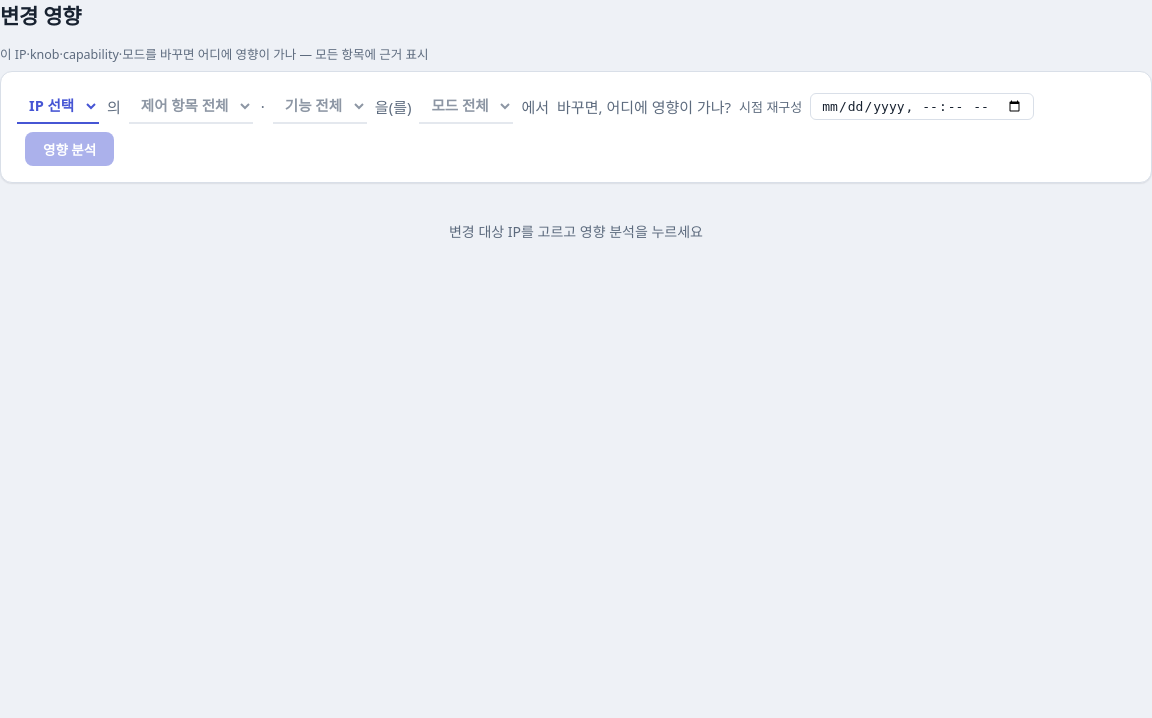
Test: ChangeImpactPage › 그래프 노드 클릭 시 근거 패널에 상세가 표시된다
This screenshot has width=1152, height=718.
Select "ISP" in the dropdown named "무엇을 바꾸나요?" at (58, 106), box [17,88,99,124]
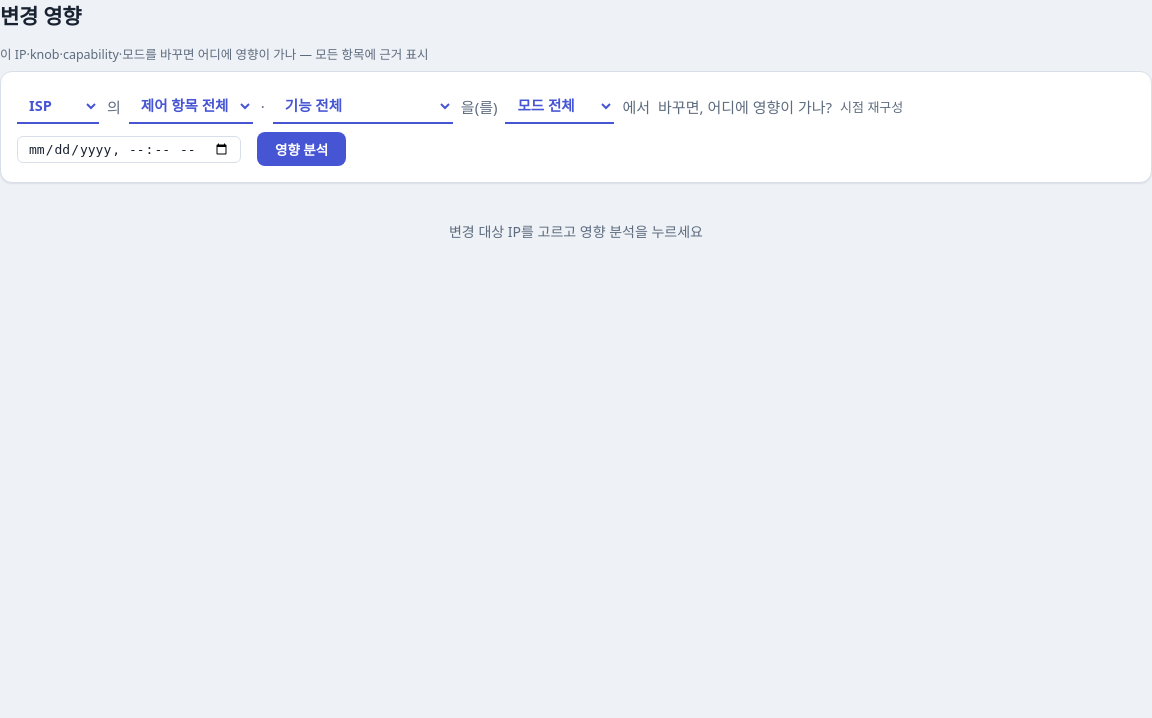
Click the button "영향 분석" at (302, 149), box [257,132,346,166]
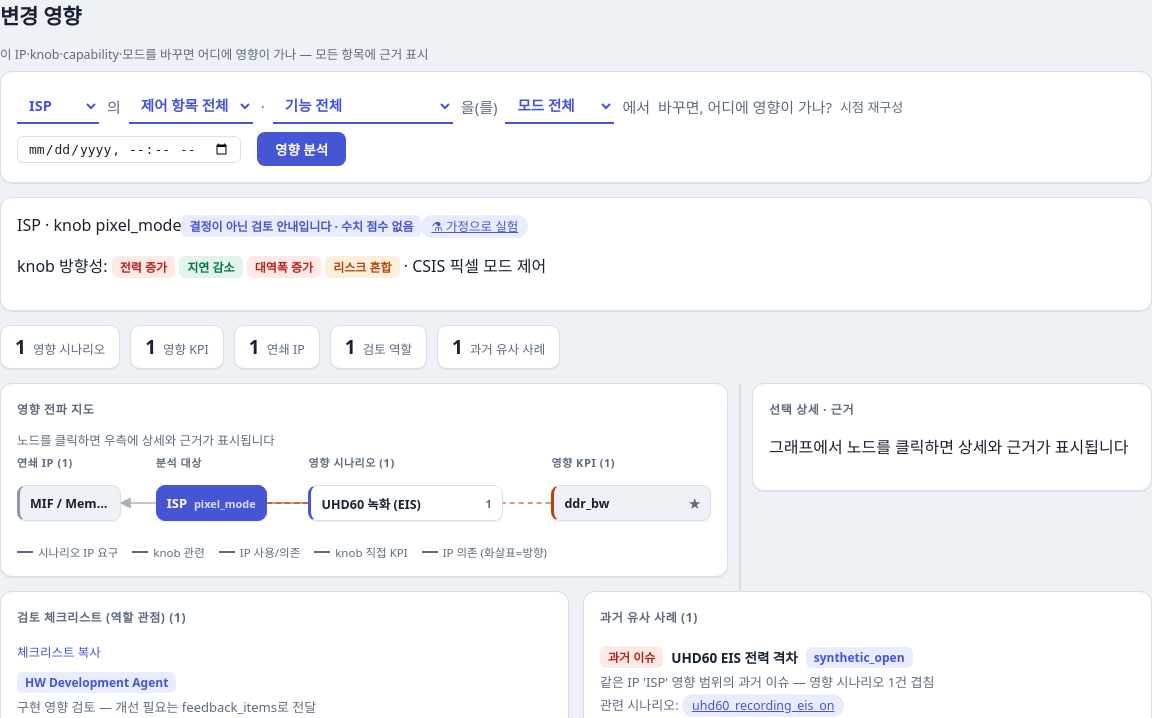
Check: the text "ISP · knob pixel_mode" is shown, box [17,214,182,236]
Click the button with aria-label "영향 시나리오: UHD60 녹화" at (406, 503), box [308,485,503,521]
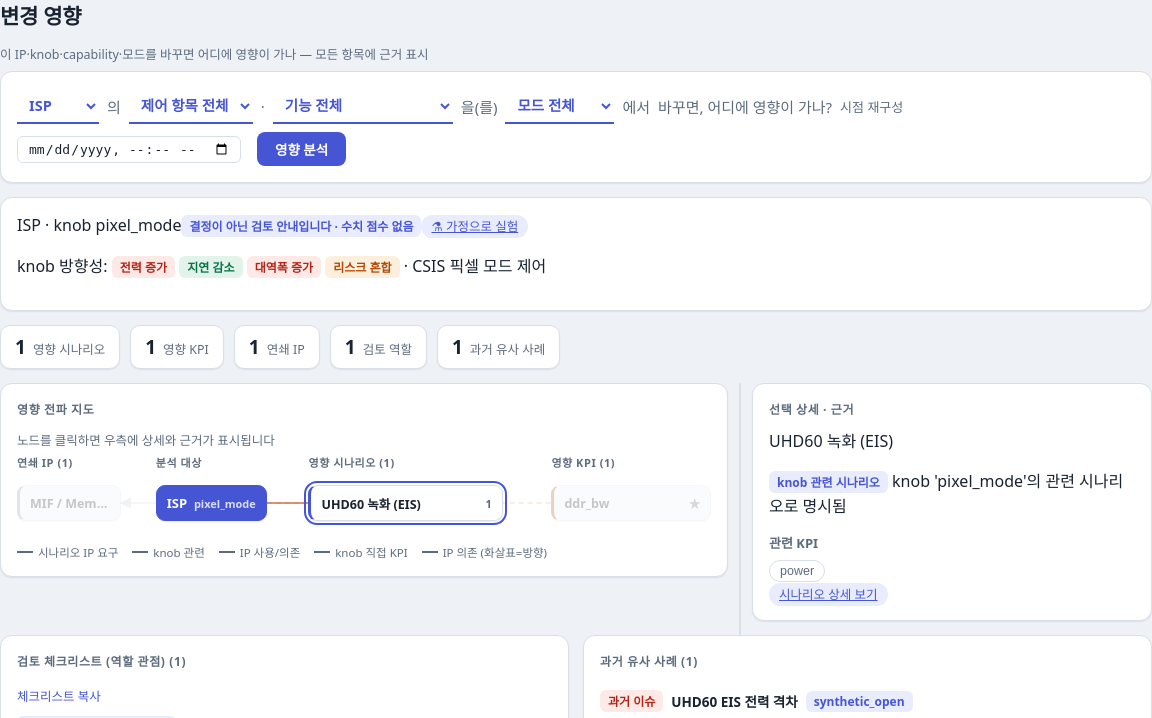
Check: the text "knob 'pixel_mode'의 관련 시나리오로 명시됨" is shown, box [769,470,1123,517]
Click the button with aria-label "연쇄 IP: MIF / Memory" at (69, 503), box [17,485,121,521]
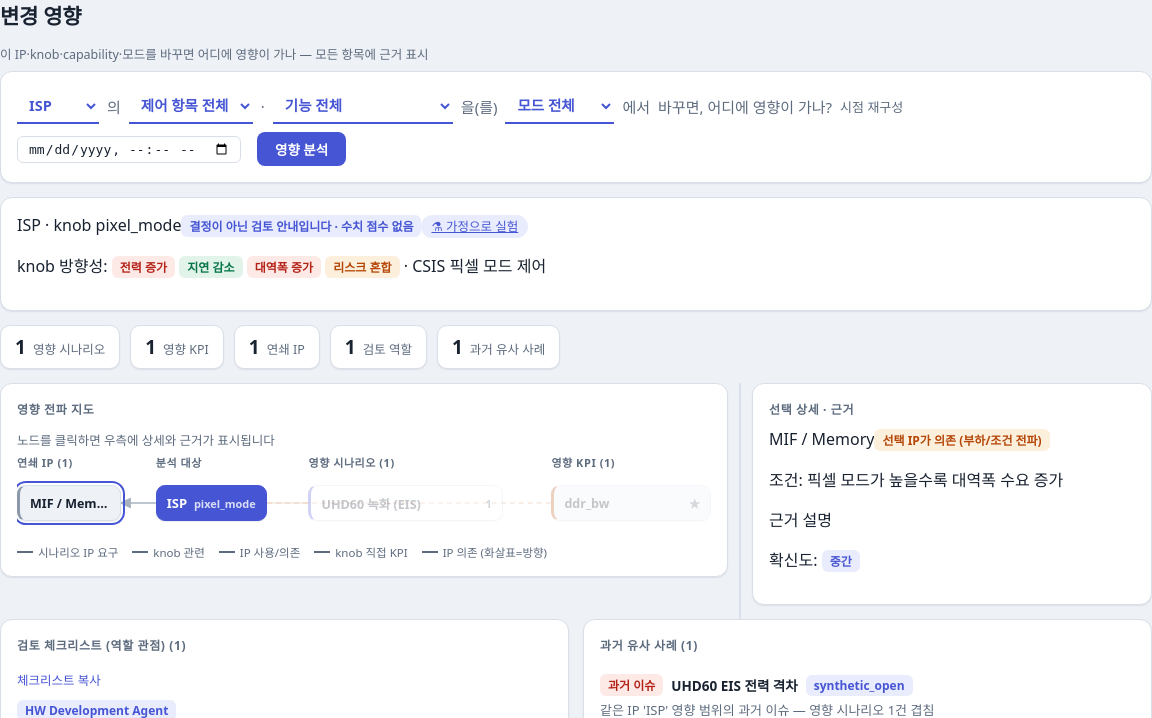
Check: the text "조건: 픽셀 모드가 높을수록 대역폭 수요 증가" is shown, box [769,469,1063,491]
